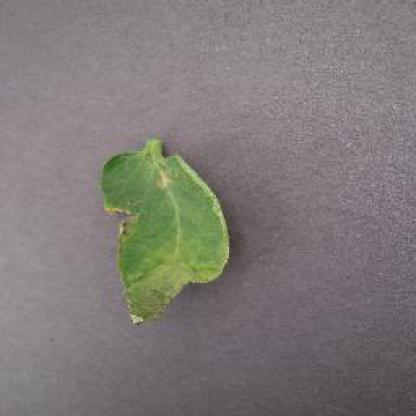bad leaf: (76, 86, 276, 356)
